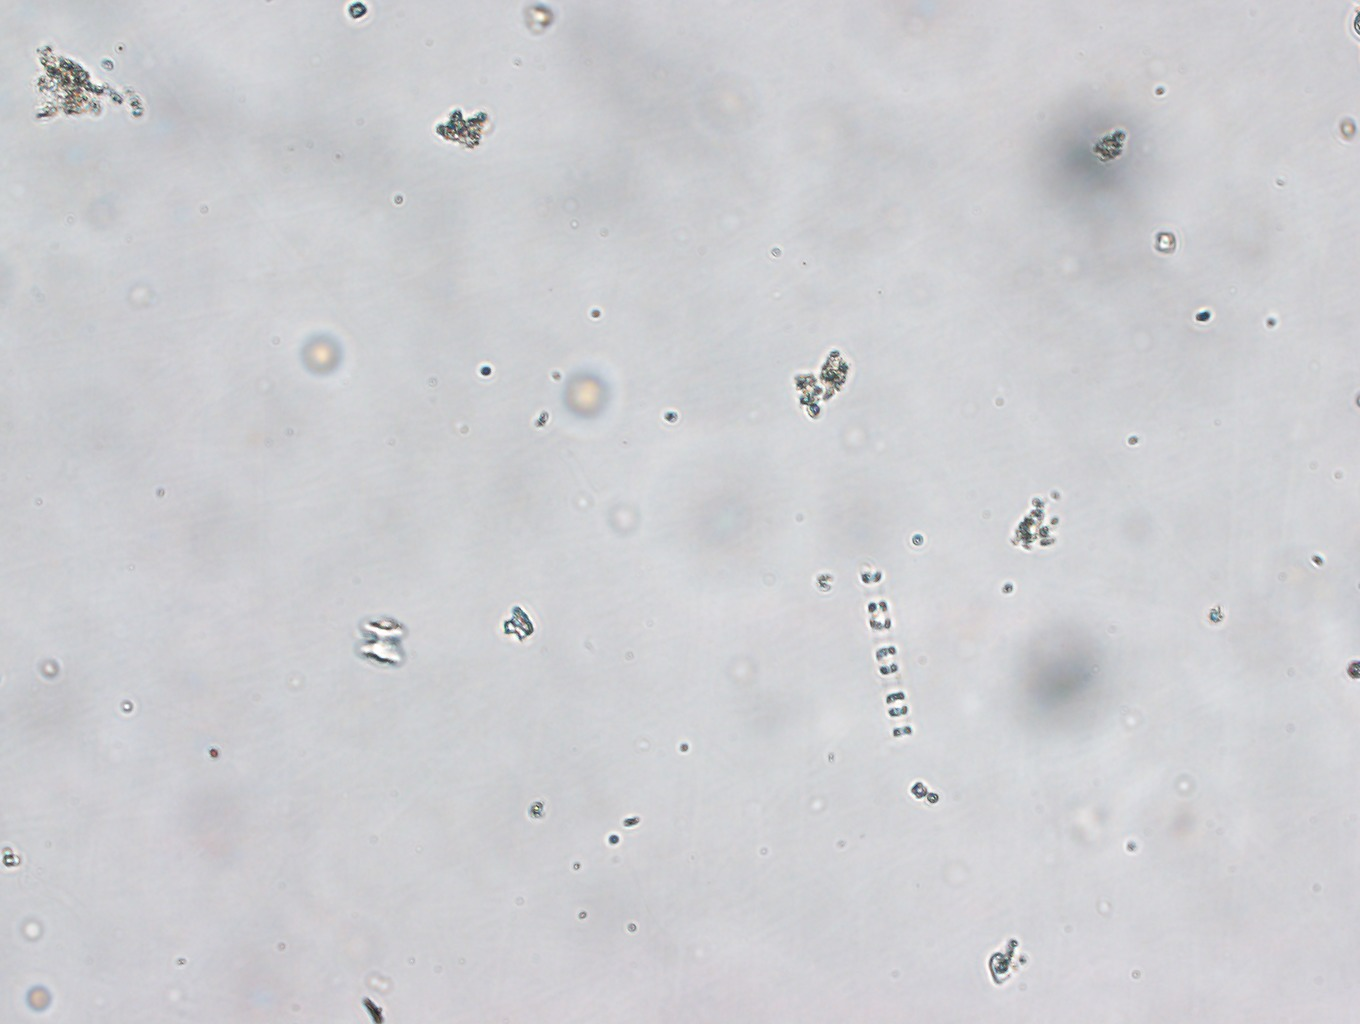skeletonema: (844, 547, 933, 748)
